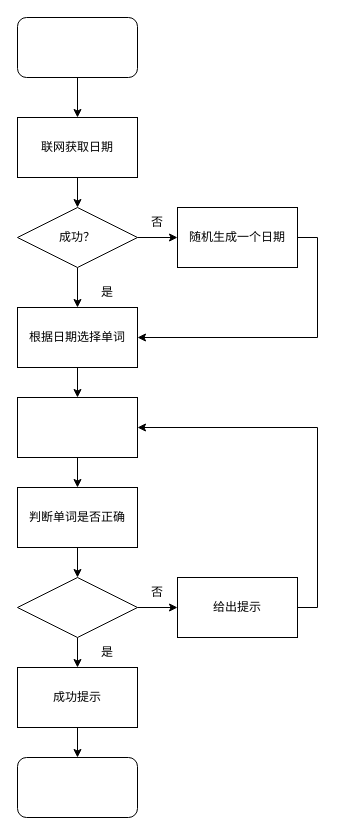
Image size: 343x835. Some labels were removed from this diagram. The shapes that lost their labels are listed below. From the top down, each one's centre as x and y in pixels, then its label:
the point at 77,47: 开始
the point at 77,427: 等待单词输入
the point at 77,607: 完全正确
the point at 77,787: 结束
